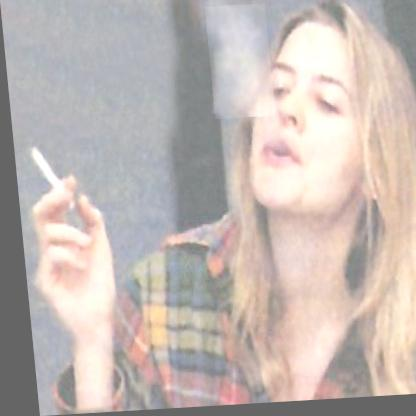smoke: (204, 7, 273, 122)
